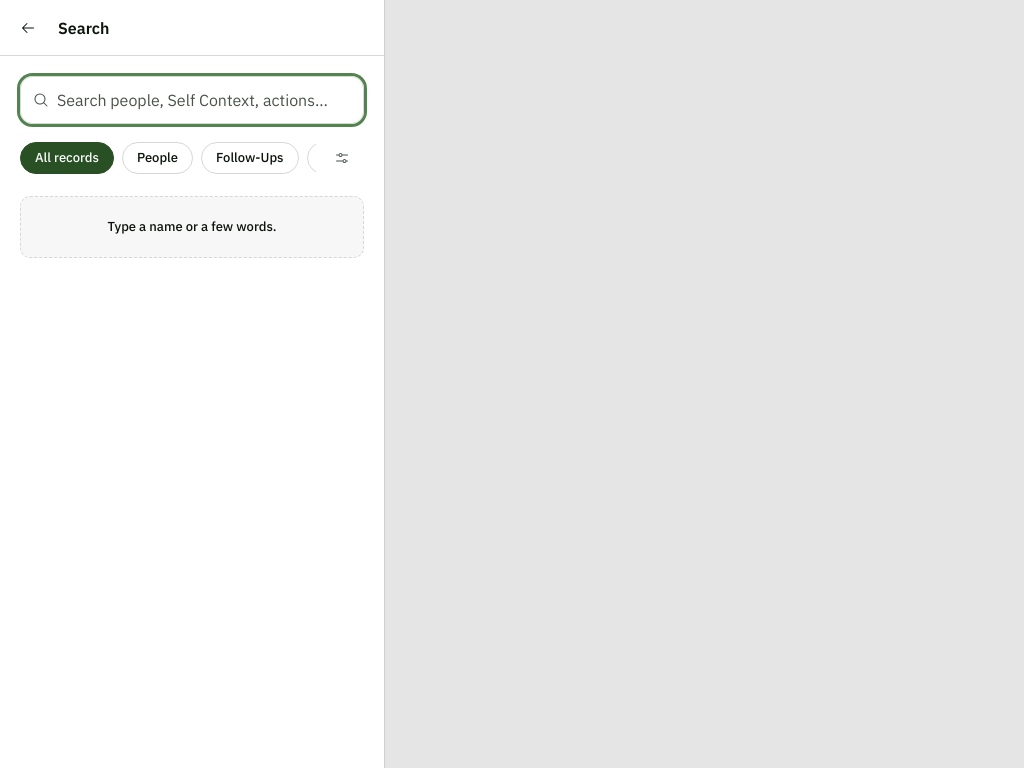
Scenario: SearchFlow › offers restricted matches only once a record type is chosen
The image size is (1024, 768).
Click the button named "More filters".
click(342, 158)  # box [320,136,364,180]
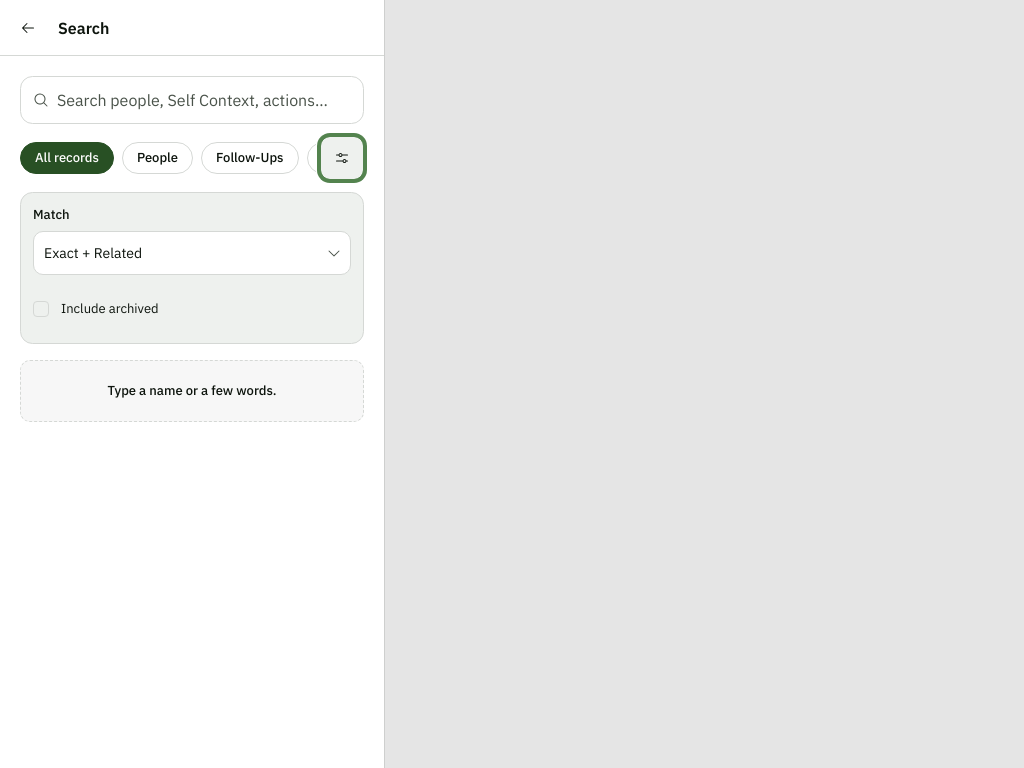
Expected: the checkbox labelled "Reveal restricted matches" is not shown
Click the radio button labelled "People".
click(158, 158)  # box [122,142,193,174]
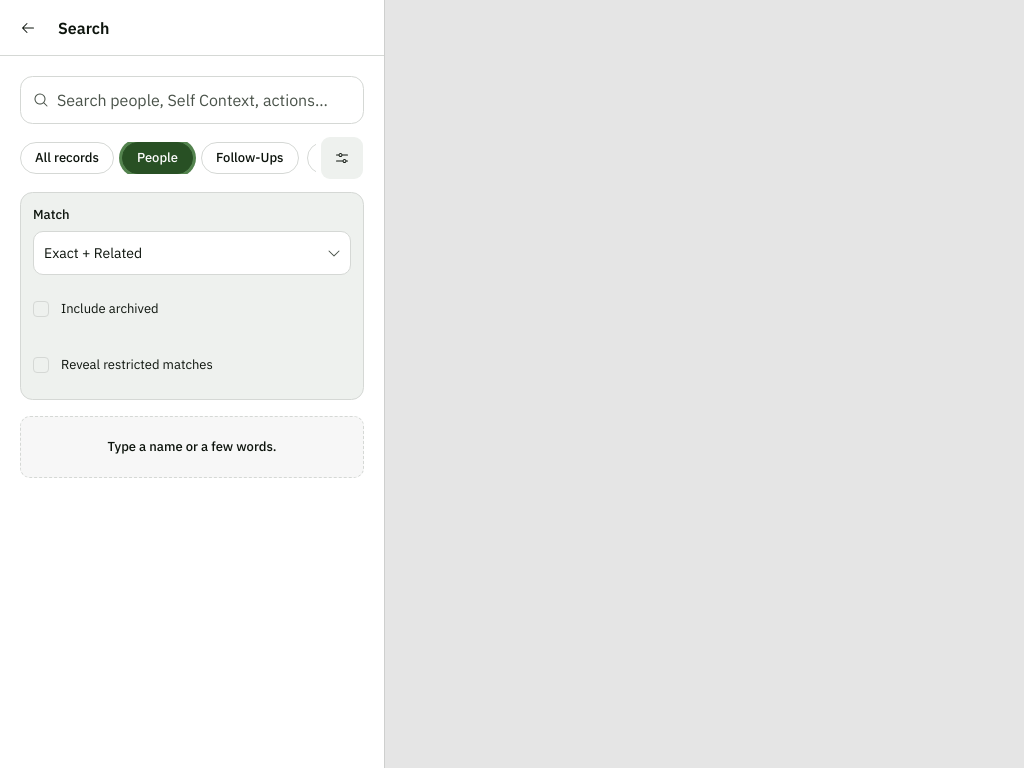
Now the checkbox named "Reveal restricted matches" next to "Reveal restricted matches" is shown, box [33,357,49,373]
